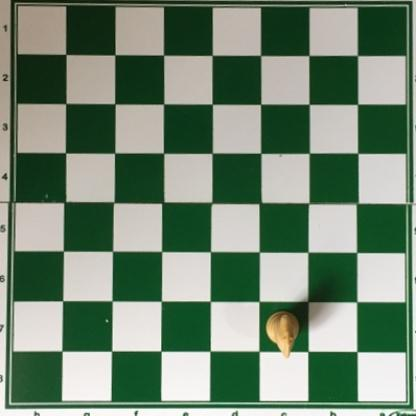white-knight: (265, 308, 302, 358)
